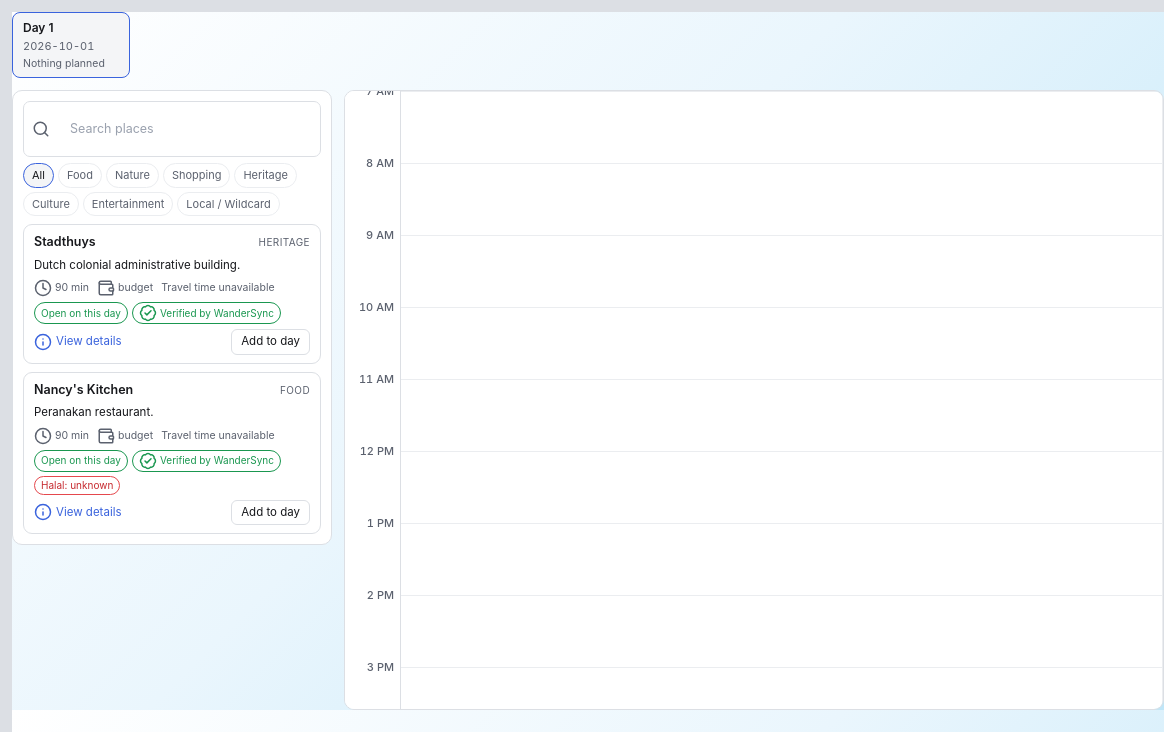
it: POI choice pool › lists candidates with an owned description and category, filtered by tab and search
(page scrolled)
Check: the text "Stadthuys" is shown, box [34,233,96,252]
Check: the text "Dutch colonial administrative building." is shown, box [34,258,240,272]
Click the tab "Food" at x=80, y=176, box [58,163,102,188]
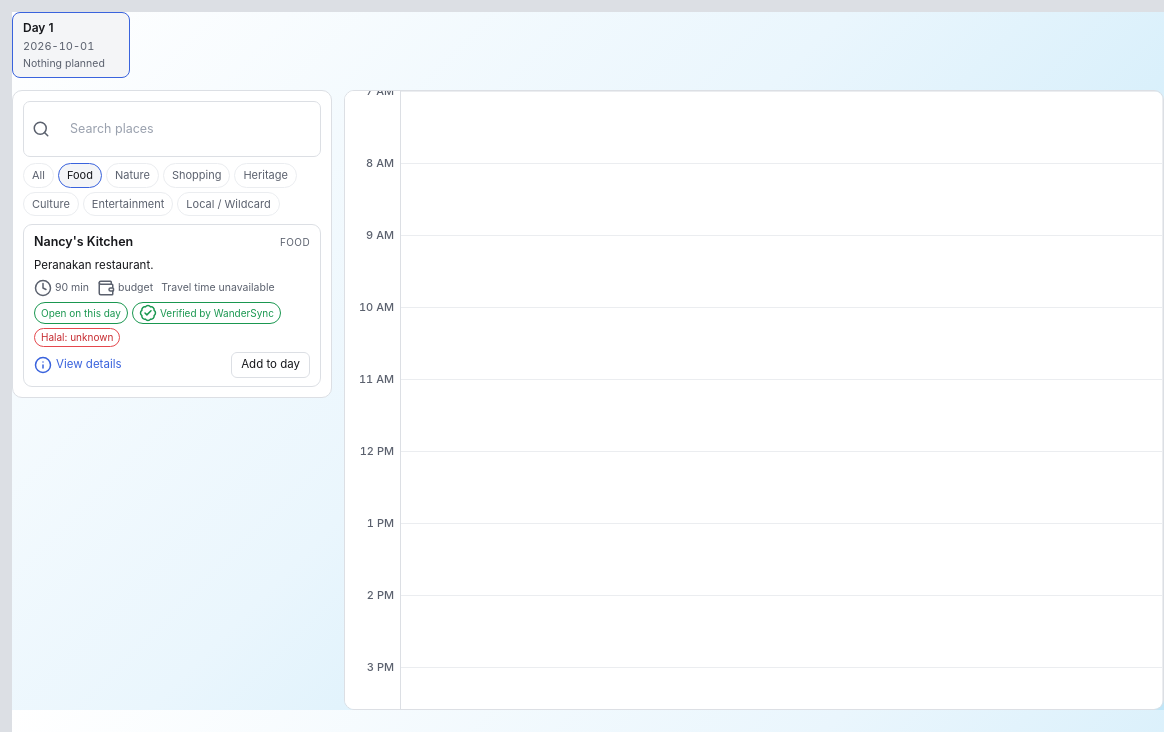
Check: the text "Nancy's Kitchen" is shown, box [34,233,133,252]
Check: the text "Stadthuys" is gone
Click the tab "All" at x=38, y=176, box [23,163,54,188]
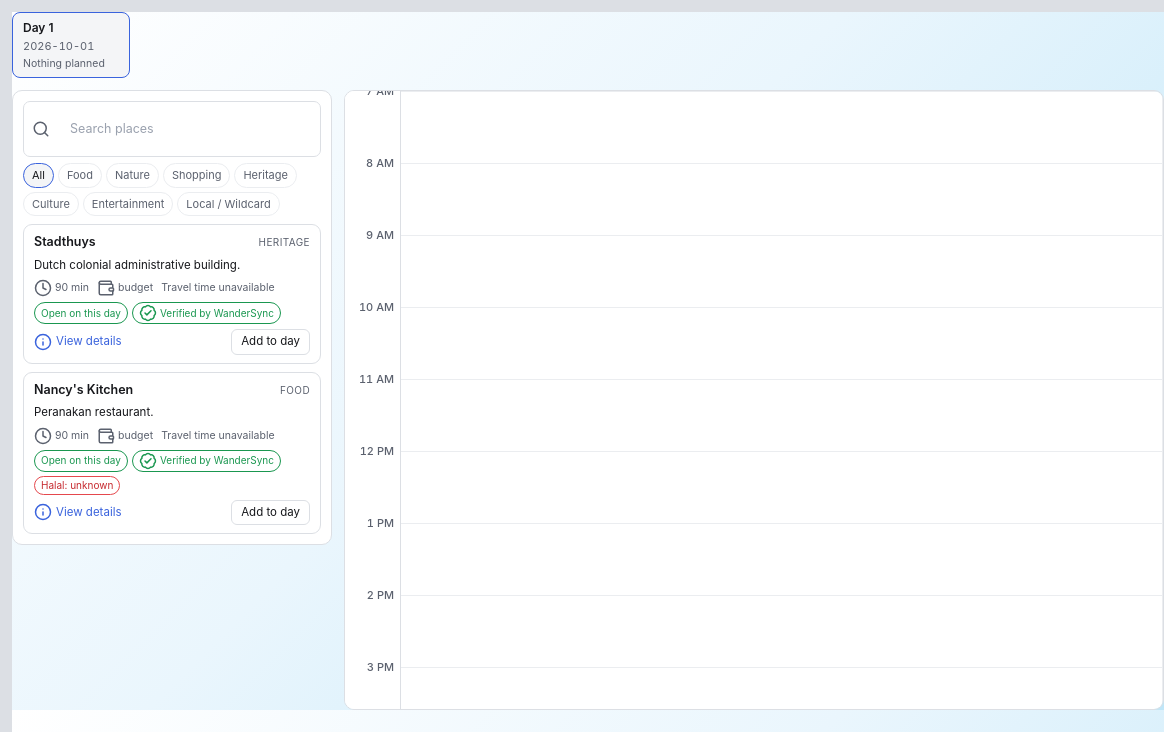
Type "colonial" into the search field labelled "Search places" at x=184, y=129, box [56,107,312,151]
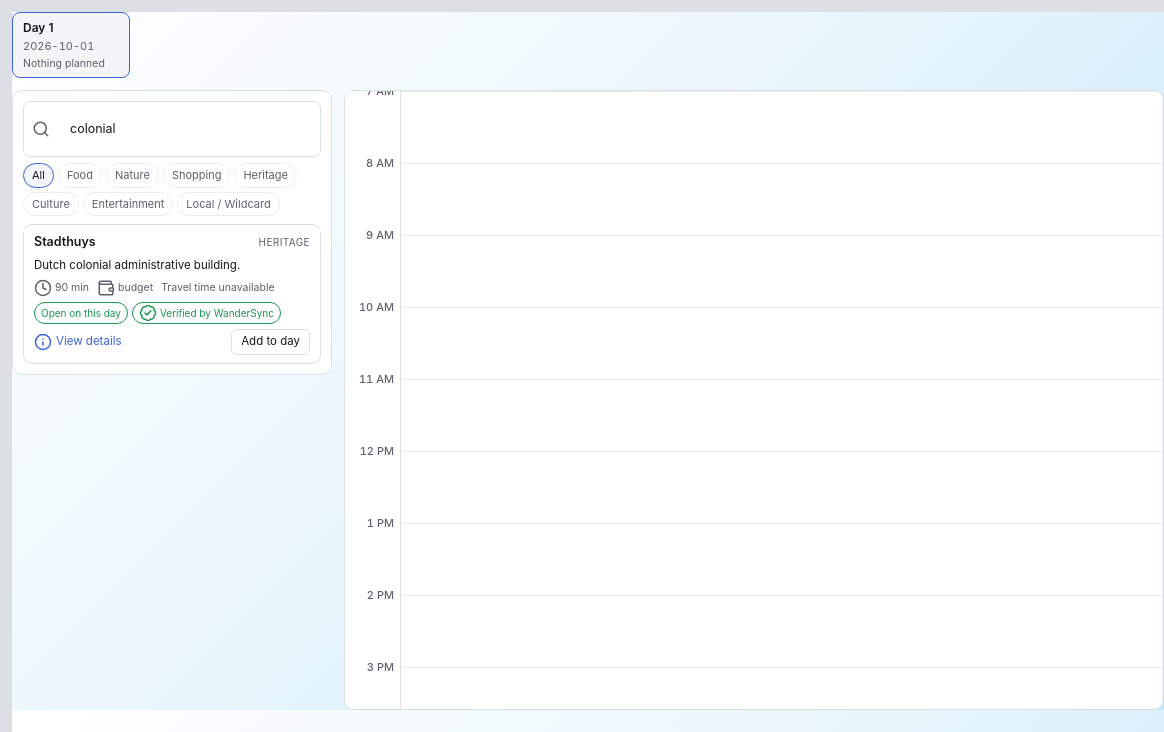
Check: the text "Stadthuys" is shown, box [34,233,96,252]
Check: the text "Nancy's Kitchen" is gone
